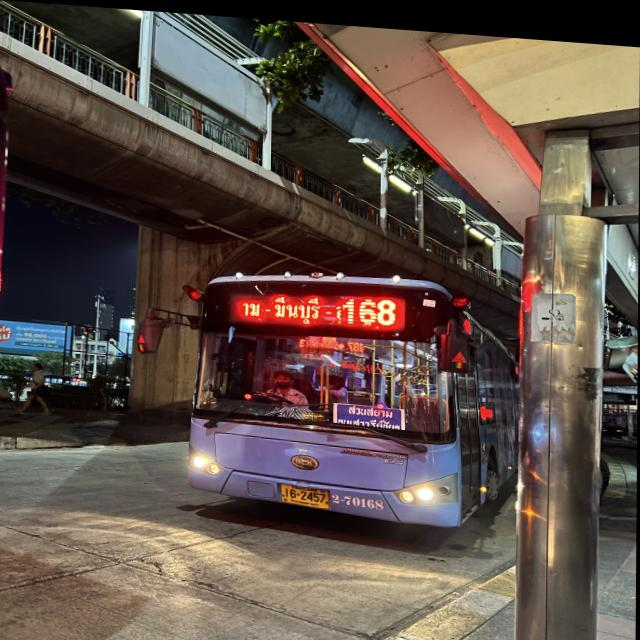BMTA-bus: (187, 270, 519, 523)
Bus Line Number: (337, 286, 406, 324)
Bus Side Number: (329, 484, 388, 509)
Destination Sign: (337, 396, 401, 424)
